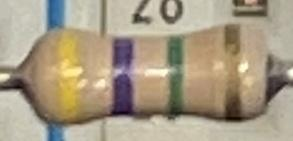Blue: (111, 36, 137, 113)
Green: (165, 34, 186, 115)
Side-Silver: (223, 23, 245, 122)
Yellow: (57, 28, 81, 125)
